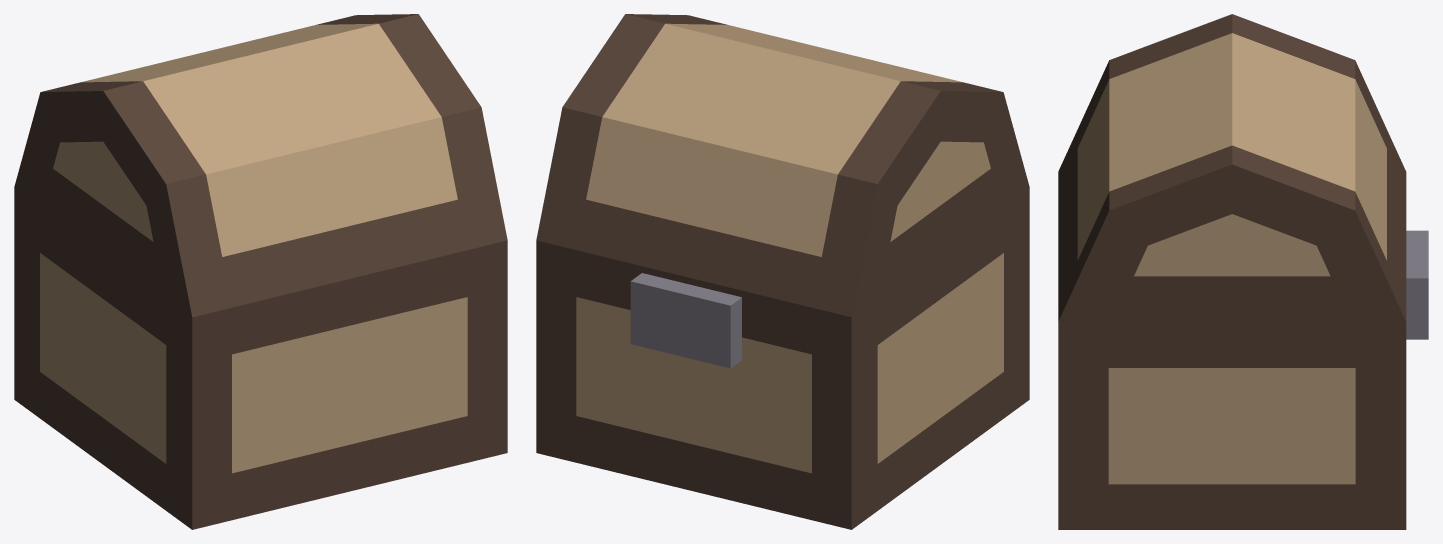
Rendered from TB_Prop_Chest_Small_A.FBX.
3 views of the same model, side by side, from view 1: azimuth 30°, elevation 25°; view 2: azimuth 150°, elevation 25°; view 3: azimuth 270°, elevation 25° (orthographic). The views are drawn at different scales.
Visible parts, largest first — view 1: TB_Prop_Chest_Small_A; view 2: TB_Prop_Chest_Small_A; view 3: TB_Prop_Chest_Small_A.
Part boxes in pixels (x1,y1,x2,y2): TB_Prop_Chest_Small_A: (14, 14, 507, 529); TB_Prop_Chest_Small_A: (536, 14, 1029, 529); TB_Prop_Chest_Small_A: (1058, 14, 1428, 529).
Bounding box in the file's own units: 0.6125 × 0.6939 × 0.6372.
